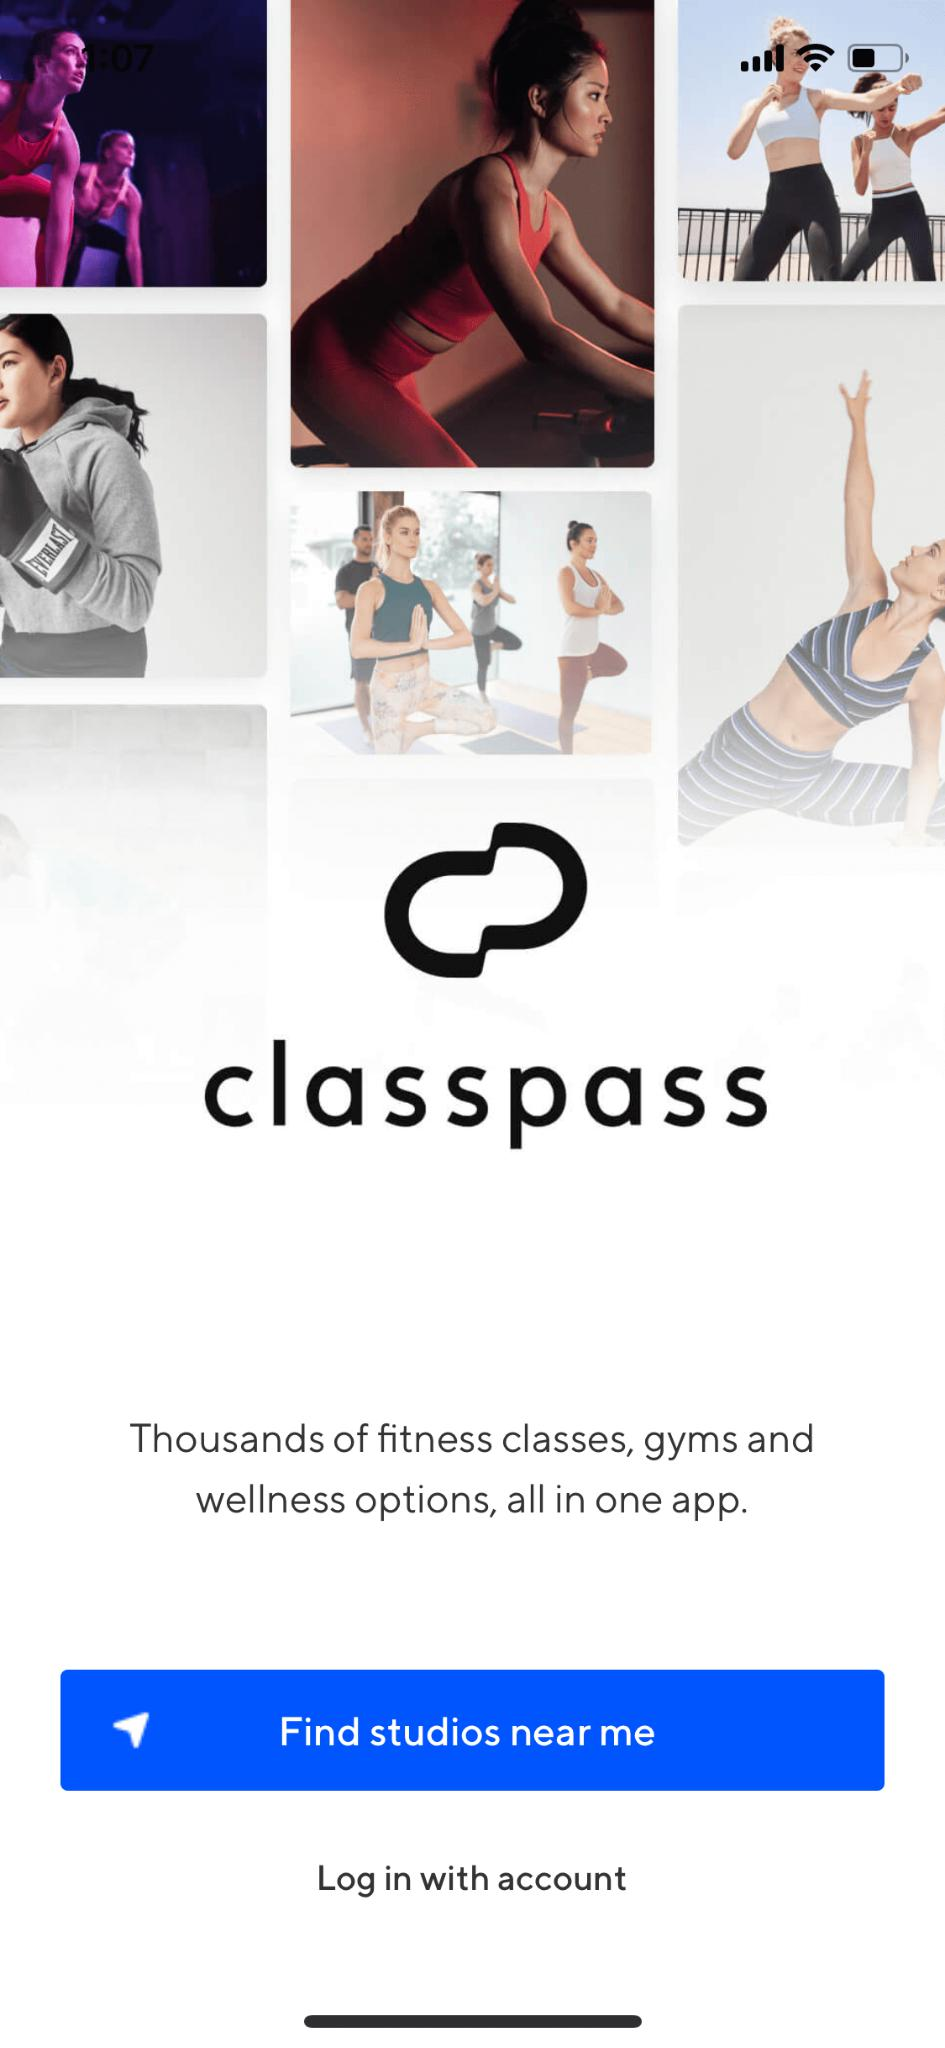Buttons: (56, 1659, 891, 1808), (286, 1829, 662, 1933)
